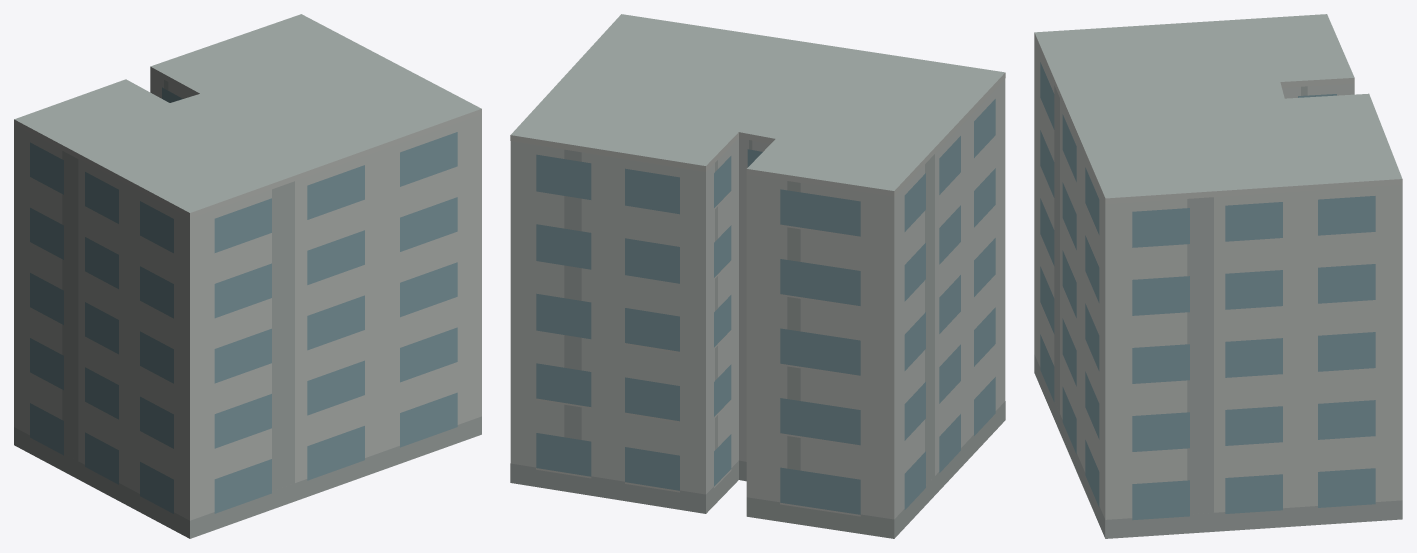
Rendered from survey-upis-32576991.glb.
The picture shows the model from 3 angles, left to right: view 1: azimuth 30°, elevation 25°; view 2: azimuth 150°, elevation 25°; view 3: azimuth 270°, elevation 25°; orthographic projection. The views are drawn at different scales.
Parts seen in each view (by area): view 1: survey-upis-32576991.tmp; view 2: survey-upis-32576991.tmp; view 3: survey-upis-32576991.tmp.
Part boxes in pixels (bbox=[...]): survey-upis-32576991.tmp: bbox=[14, 14, 481, 538]; survey-upis-32576991.tmp: bbox=[510, 14, 1005, 538]; survey-upis-32576991.tmp: bbox=[1034, 14, 1402, 538].
Size of the model in its own units: 16.51 by 14.2 by 13.92.
